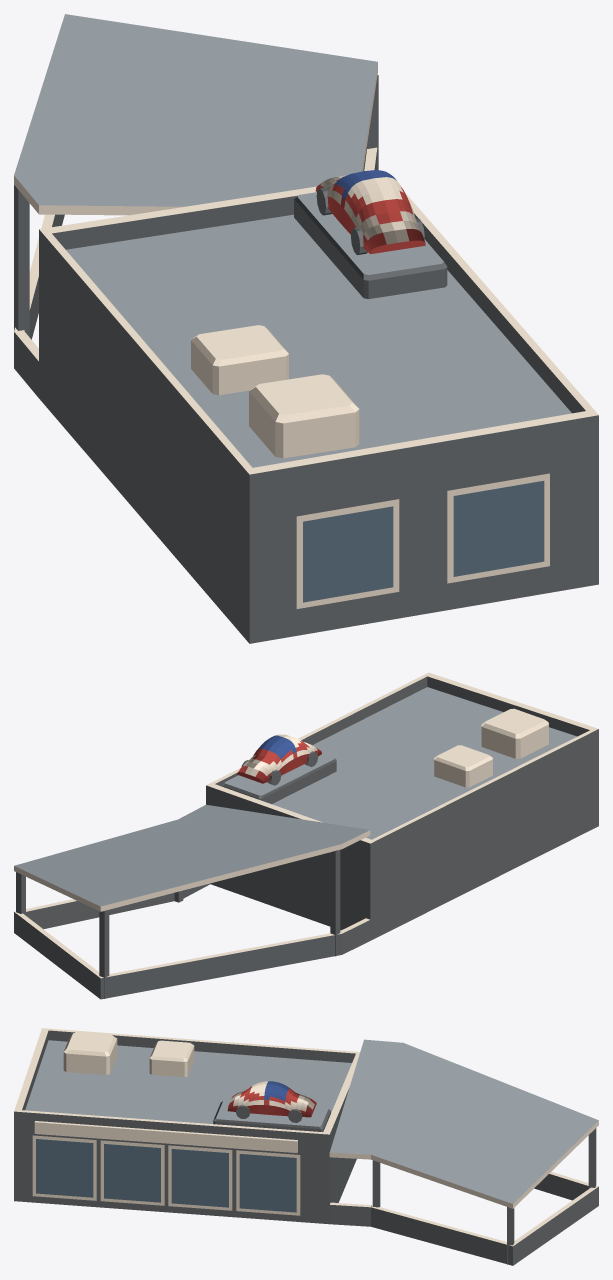
File: detail.glb
3 renders of one model, top to bottom at view 1: azimuth 30°, elevation 25°; view 2: azimuth 150°, elevation 25°; view 3: azimuth 270°, elevation 25°, orthographic. The views are drawn at different scales.
Visible parts, largest first — view 1: pinkys-westside-grill; view 2: pinkys-westside-grill; view 3: pinkys-westside-grill.
Part boxes in pixels (<box>): pinkys-westside-grill: <box>14,14,598,643</box>; pinkys-westside-grill: <box>14,672,598,999</box>; pinkys-westside-grill: <box>14,1028,598,1265</box>.
Size of the model in its own units: 16.3 by 6.19 by 27.2.
